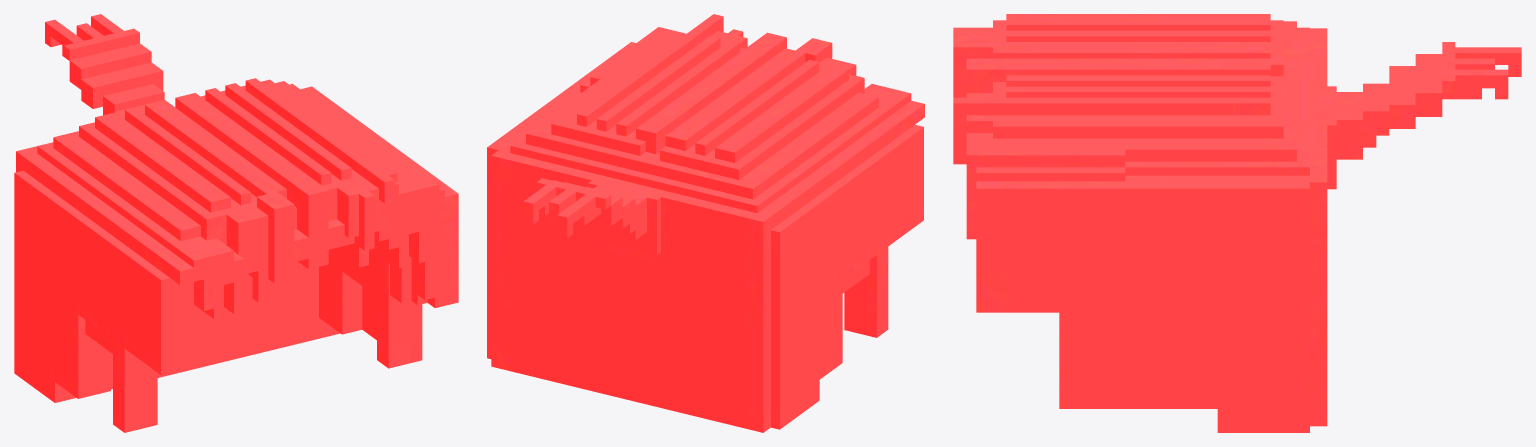
File: bushido_red.glb
The picture shows the model from 3 angles, left to right: view 1: azimuth 30°, elevation 25°; view 2: azimuth 150°, elevation 25°; view 3: azimuth 270°, elevation 25°; orthographic projection. The views are drawn at different scales.
Parts seen in each view (by area): view 1: japanese_uw.001; view 2: japanese_uw.001; view 3: japanese_uw.001.
Boxes of the visible parts, x1,y1,x2,y2 form: japanese_uw.001: (14,14,458,432); japanese_uw.001: (487,14,924,432); japanese_uw.001: (953,14,1521,432).
Bounding box in the file's own units: 2.96 × 2.41 × 4.3.
1 material, 1 textured.
